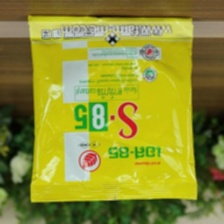insecticide: (22, 11, 202, 206)
